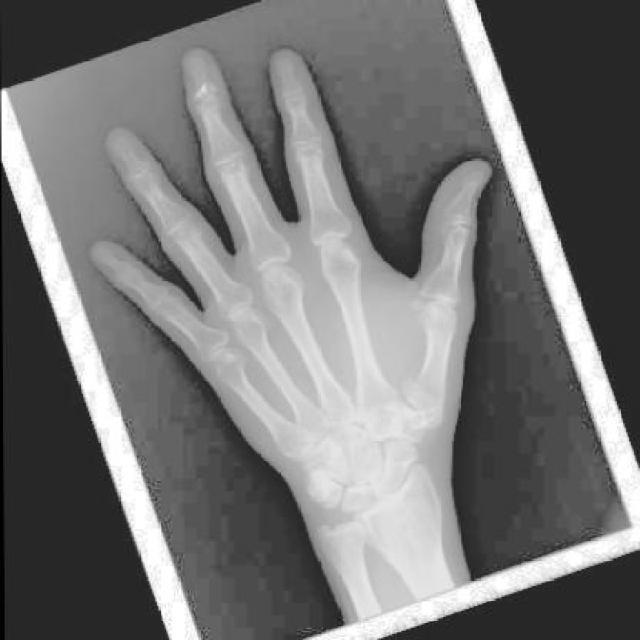Fracture: (369, 365, 444, 448)
